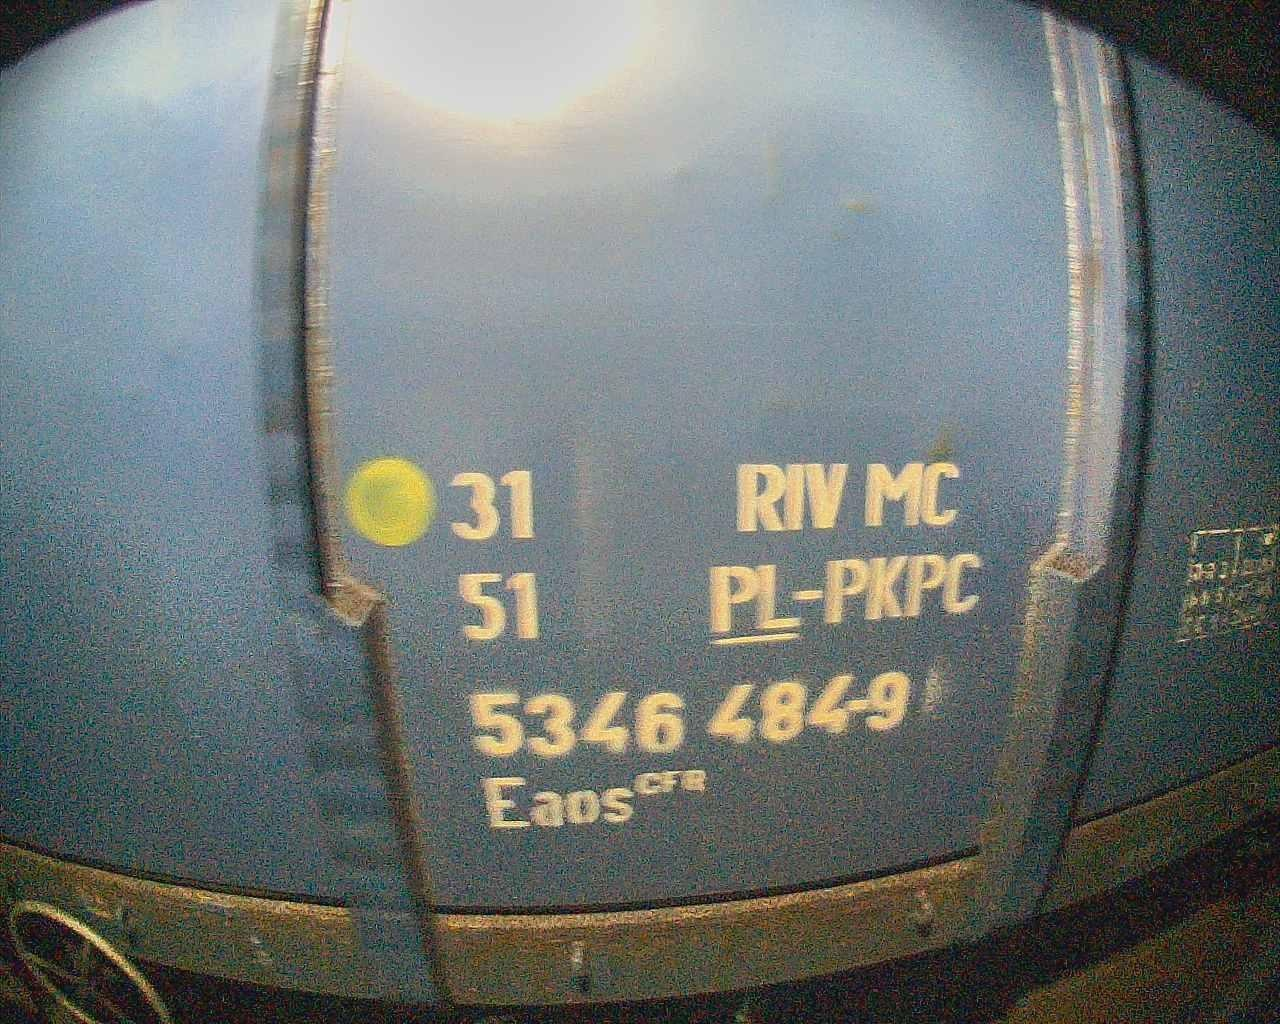UIC: (444, 458, 987, 831)
